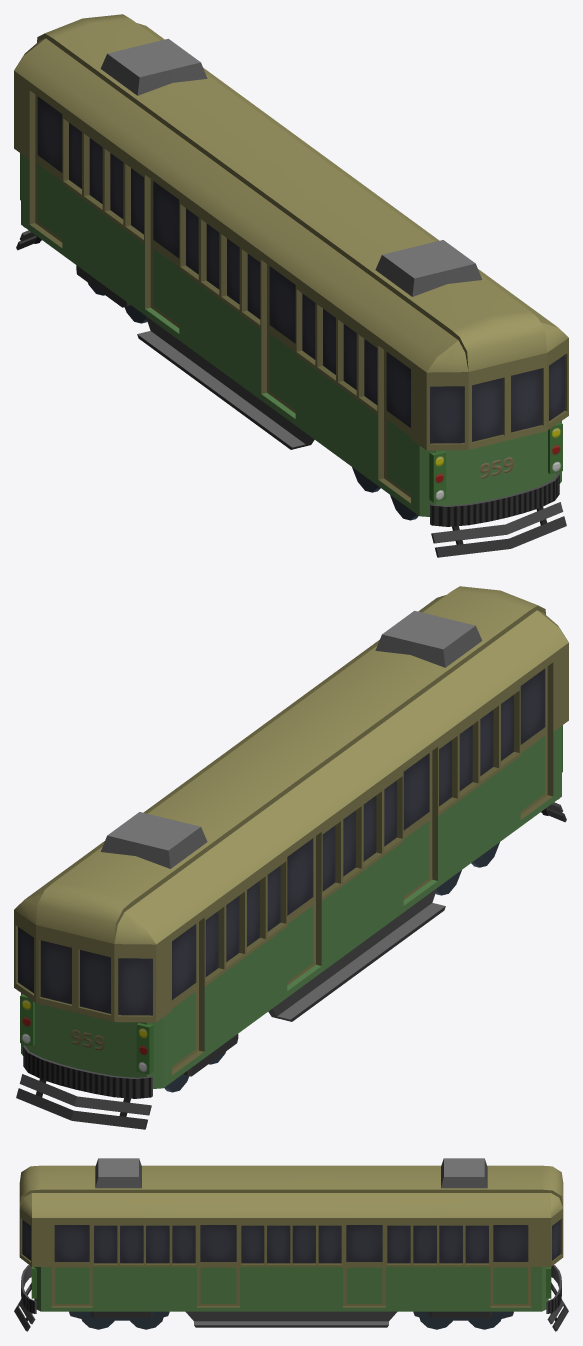
File: Tram.fbx
3 views of the same model, one above another, from view 1: azimuth 30°, elevation 25°; view 2: azimuth 150°, elevation 25°; view 3: azimuth 270°, elevation 25° (orthographic). The views are drawn at different scales.
Visible parts, largest first — view 1: Tram; view 2: Tram; view 3: Tram.
Boxes of the visible parts, bbox=[...] form: Tram: bbox=[14, 14, 568, 557]; Tram: bbox=[14, 586, 568, 1129]; Tram: bbox=[14, 1158, 568, 1331].
Size of the model in its own units: 284 by 420 by 1414.
1 material, 1 textured.
